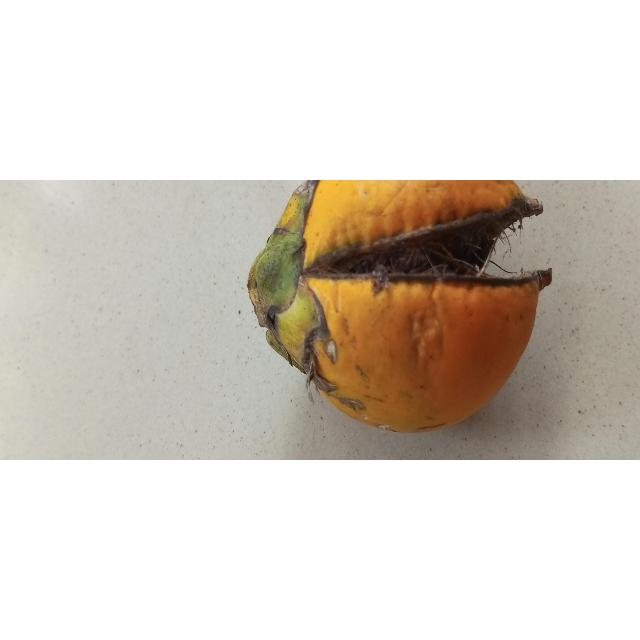damaged: (253, 180, 553, 435)
